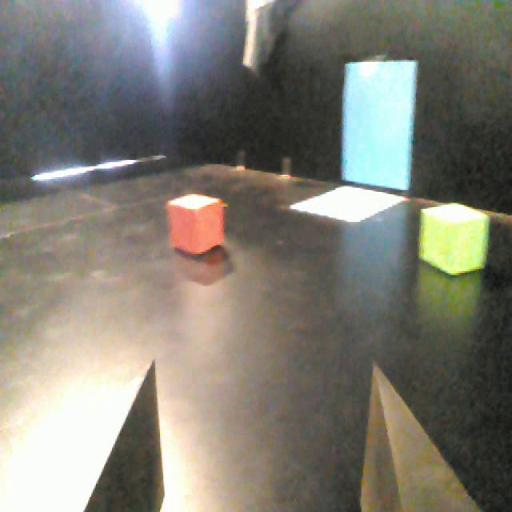cube: (414, 198, 489, 280), (162, 188, 228, 267)
